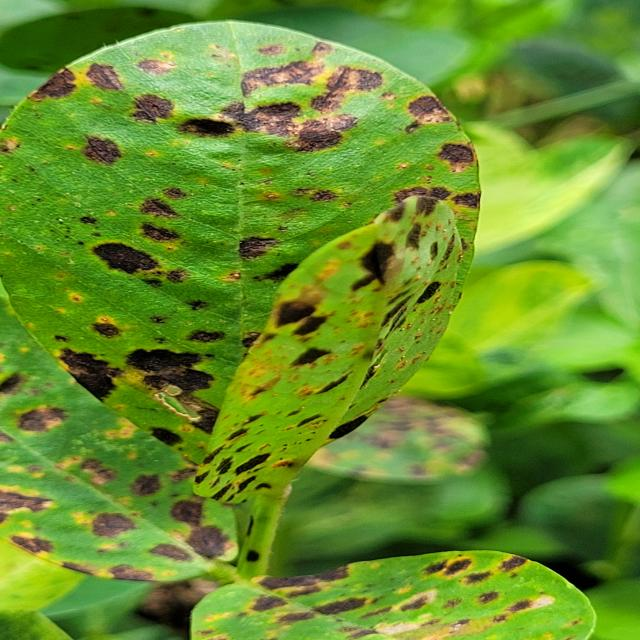Ground nut_tikka leaf spot: (6, 23, 492, 590)
